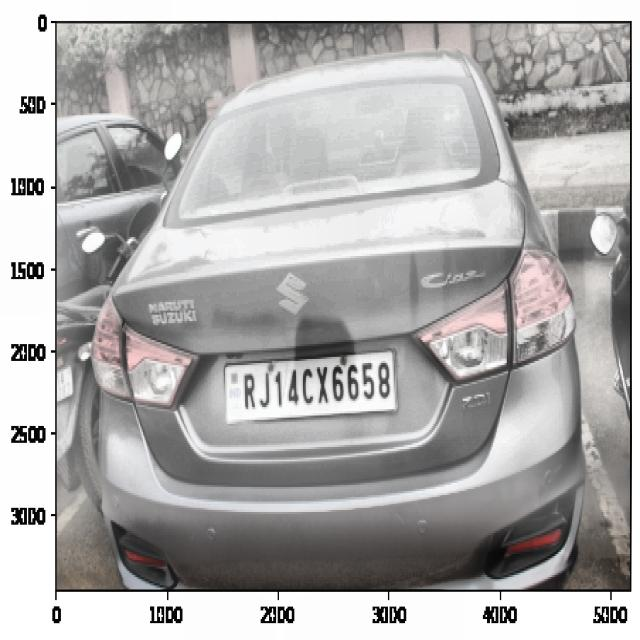license_plate: (231, 354, 397, 418)
